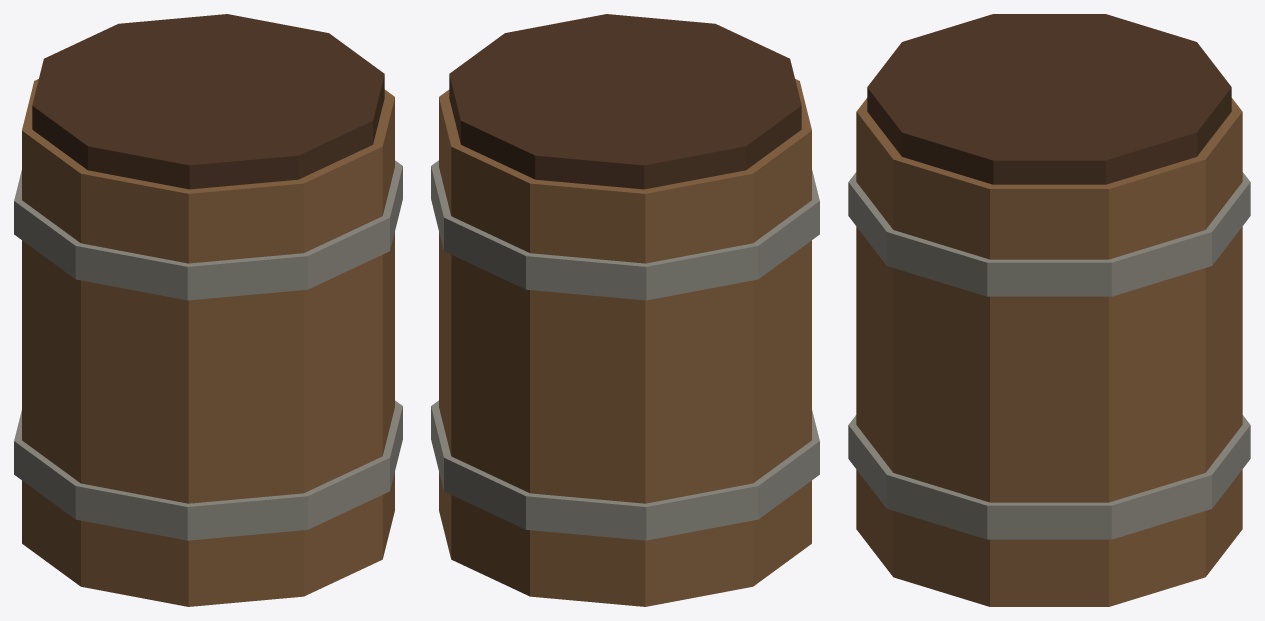
The model's file is prop_barrel.glb.
The picture shows the model from 3 angles, left to right: view 1: azimuth 30°, elevation 25°; view 2: azimuth 150°, elevation 25°; view 3: azimuth 270°, elevation 25°; orthographic projection.
Parts seen in each view (by area): view 1: prop_barrel; view 2: prop_barrel; view 3: prop_barrel.
Boxes of the visible parts, x1=… form: prop_barrel: x1=14, y1=14, x2=402, y2=606; prop_barrel: x1=431, y1=14, x2=819, y2=606; prop_barrel: x1=848, y1=14, x2=1250, y2=606.
Size of the model in its own units: 0.7133 by 0.91 by 0.75.
